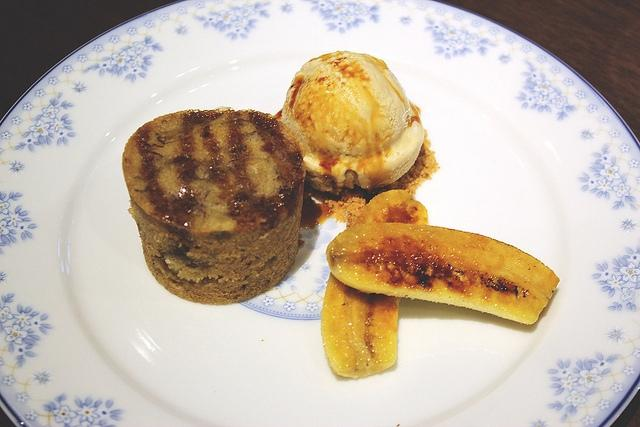banana: (325, 222, 560, 325), (321, 188, 428, 380)
